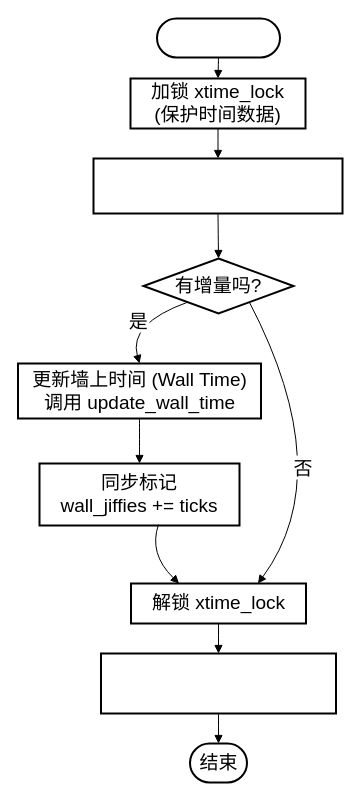
This 361x800 diagram has some shape labels left out. The shapes that lost their labels are listed below. From the top down, each one's box as (x1, y1, x2, y2) in pixels, then its label:
(156, 17, 280, 58): update_times
(92, 157, 343, 214): 计算 Tick 增量 ticks = jiffies - wall_jiffies
(100, 652, 336, 714): 计算系统负载 (Load Avg) 调用 calc_load
